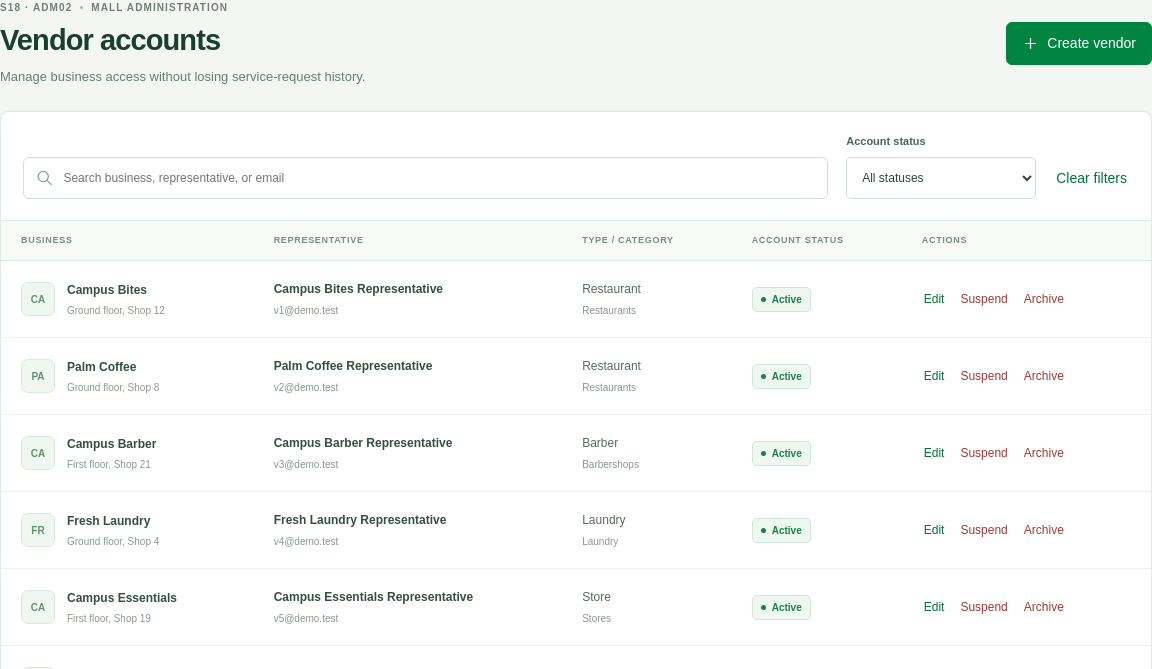
Owned admin screens › shows required vendor field errors and retains non-password input
Click the button "Create vendor" at (1079, 44), box [1006,22,1151,65]
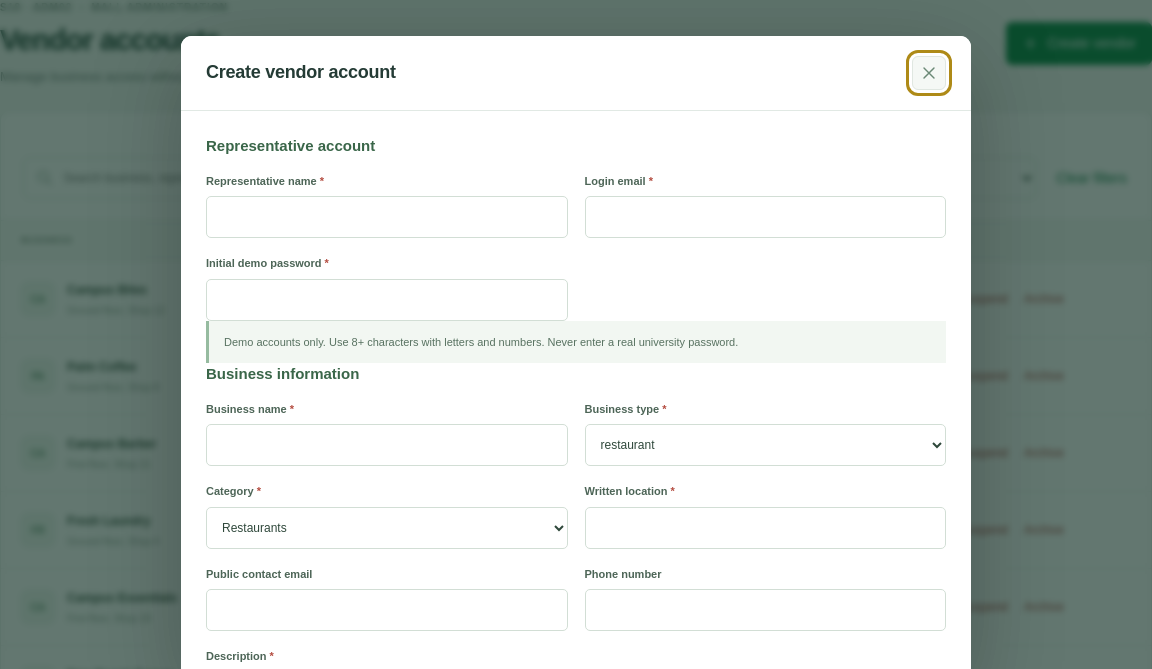
Type "Keep this name" into the field labelled "Business name *" at (387, 445), box [206,424,568,466]
(page scrolled)
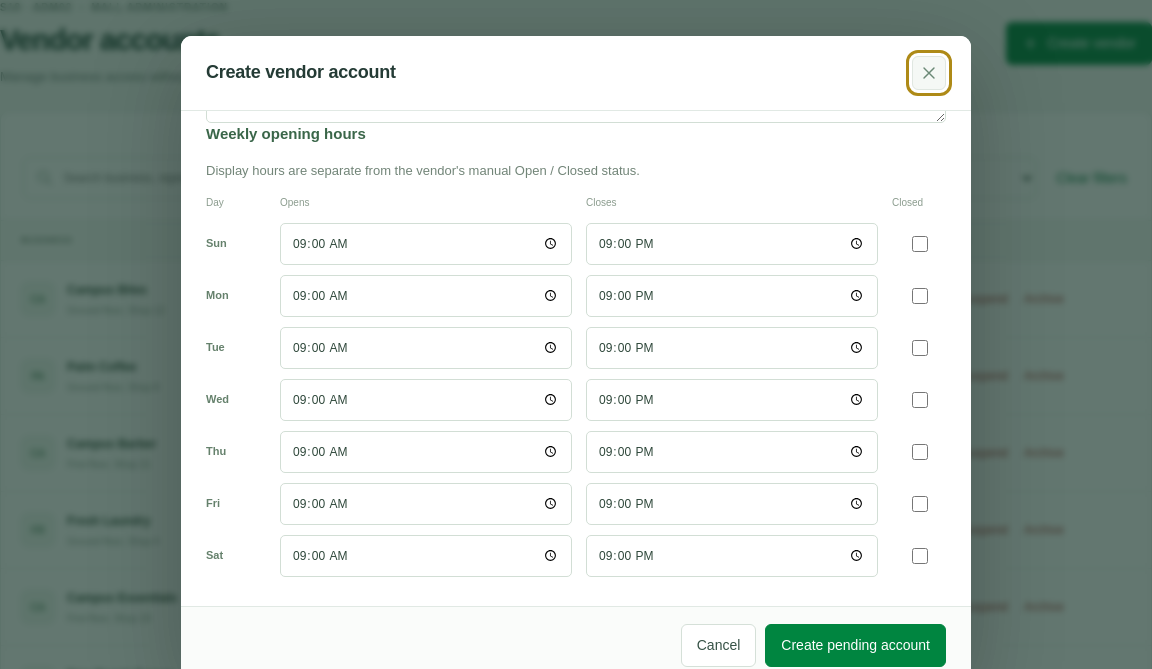
Click the button "Create pending account" at (856, 645), box [765,624,946,667]
(page scrolled)
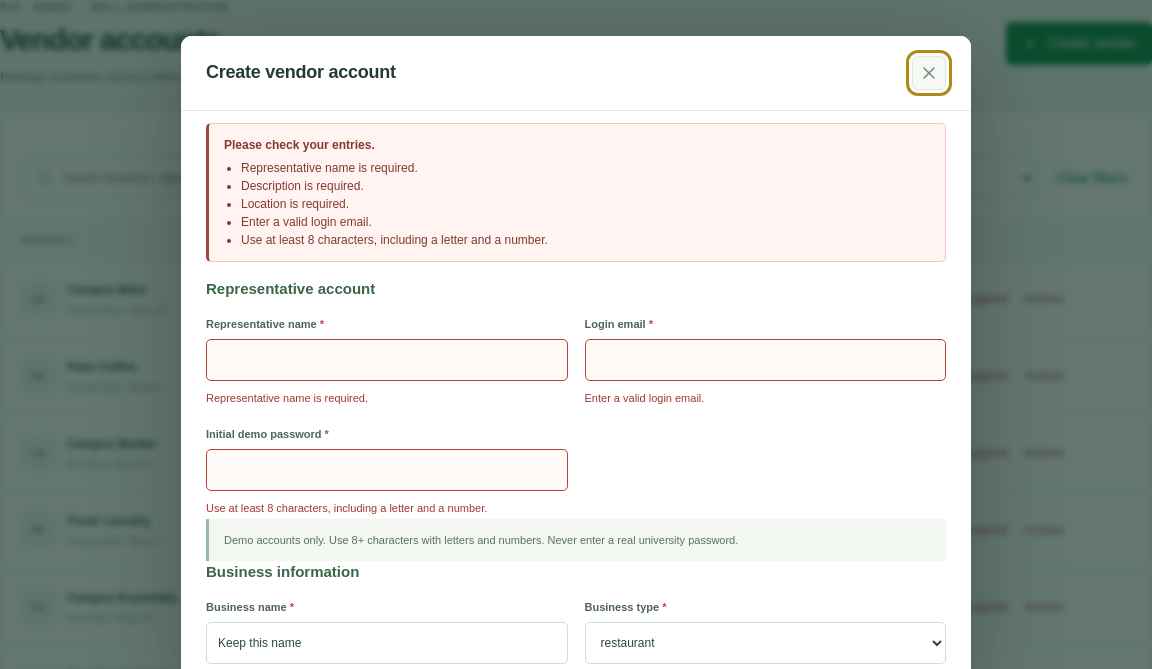
Expected: the message is shown, [206,123,946,262]
